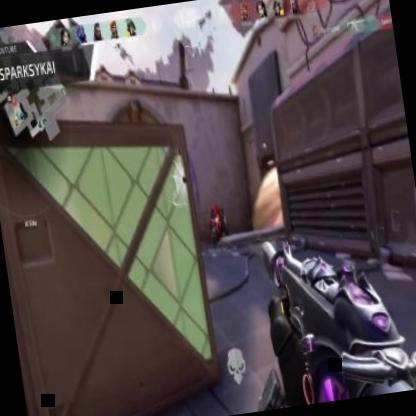enemy: (208, 206, 222, 248)
enemy_head: (209, 207, 216, 218)
